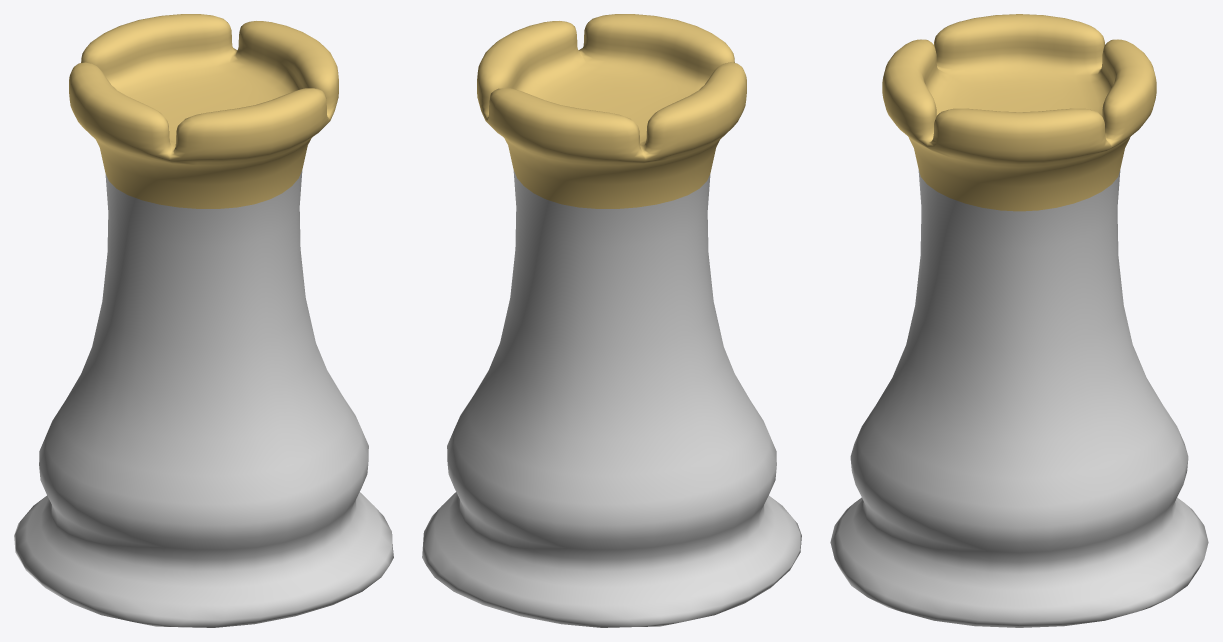
File: sade_r_w.glb
3 renders of one model, left to right at view 1: azimuth 30°, elevation 25°; view 2: azimuth 150°, elevation 25°; view 3: azimuth 270°, elevation 25°, orthographic.
Visible parts, largest first — view 1: x; view 2: x; view 3: x.
Boxes of the visible parts, x1=… form: x: x1=14, y1=14, x2=393, y2=627; x: x1=422, y1=14, x2=801, y2=627; x: x1=830, y1=14, x2=1208, y2=627.
Size of the model in its own units: 0.6258 by 0.9 by 0.6258.
